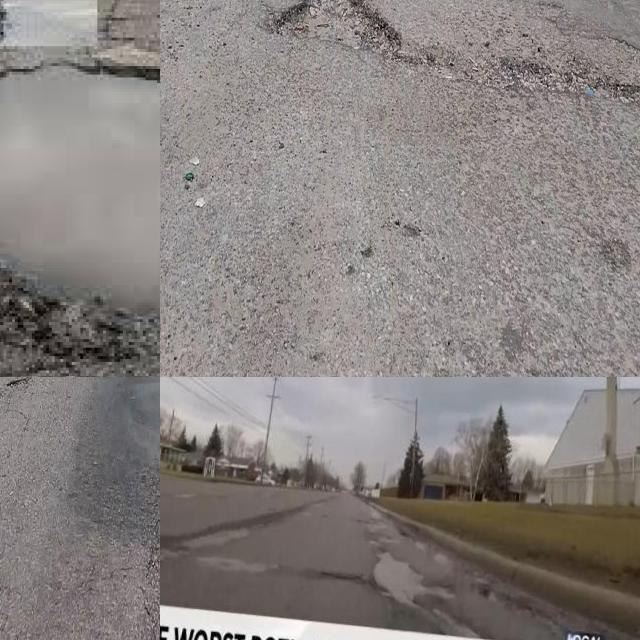Pothole: (0, 66, 160, 313), (274, 0, 403, 59), (377, 560, 452, 624), (373, 552, 453, 605), (160, 523, 235, 566), (373, 552, 424, 604), (197, 556, 278, 573), (182, 528, 250, 548), (472, 583, 509, 608), (318, 569, 369, 585), (366, 531, 399, 546), (462, 569, 492, 583), (352, 515, 378, 526), (433, 554, 450, 565), (294, 509, 317, 516), (399, 528, 411, 540)
